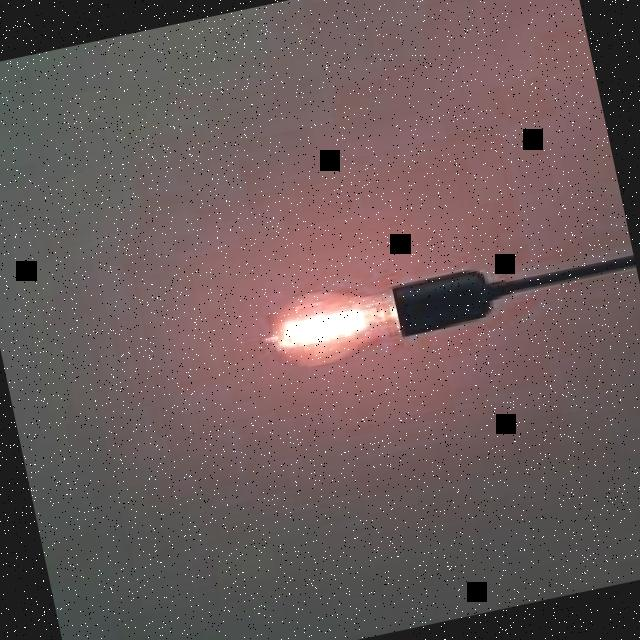light_bulb: (232, 238, 518, 399)
